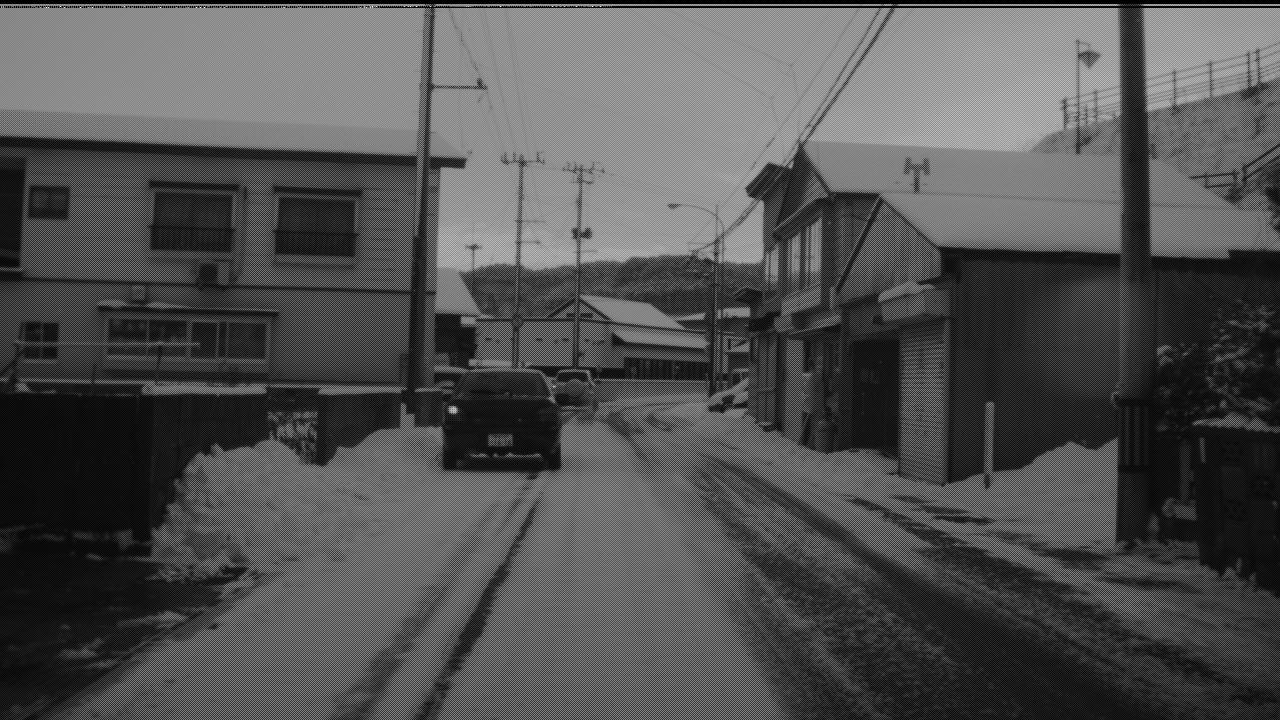pole: (1117, 1, 1153, 527), (405, 1, 438, 405), (511, 144, 524, 359), (572, 156, 584, 359), (719, 211, 723, 381)
